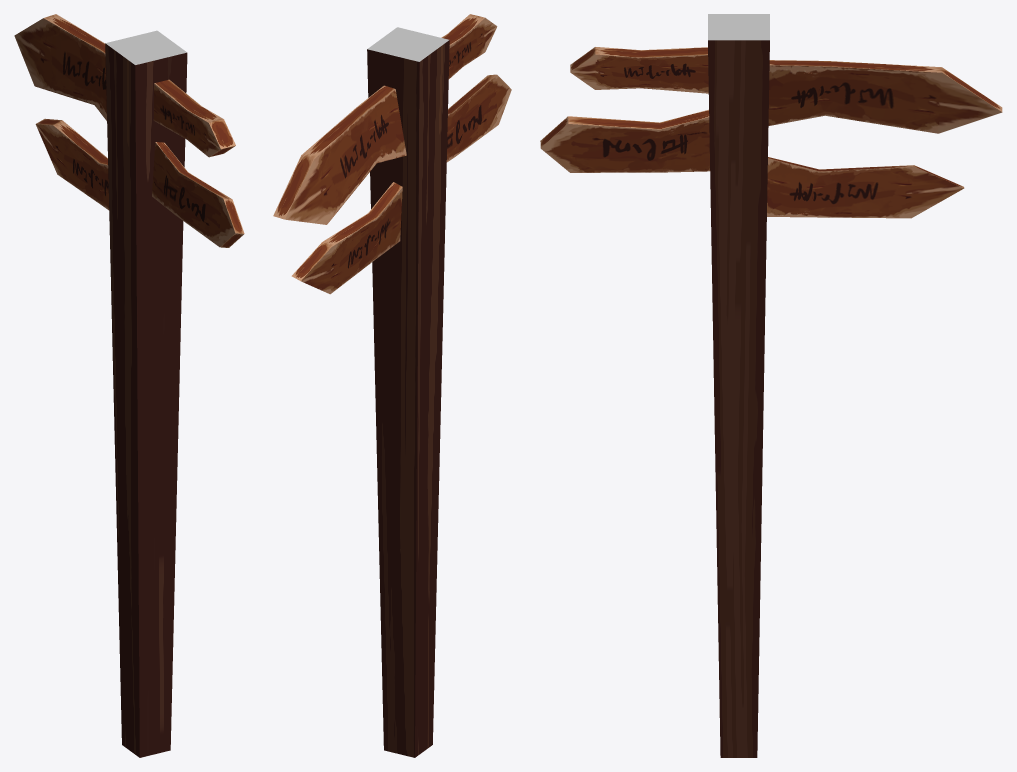
The model's file is SM_PROP_signpost_04.fbx.
3 renders of one model, left to right at view 1: azimuth 30°, elevation 25°; view 2: azimuth 150°, elevation 25°; view 3: azimuth 270°, elevation 25°, orthographic. The views are drawn at different scales.
Parts seen in each view (by area): view 1: SM_PROP_signpost_04; view 2: SM_PROP_signpost_04; view 3: SM_PROP_signpost_04.
Boxes of the visible parts, x1=… form: SM_PROP_signpost_04: x1=14, y1=14, x2=244, y2=757; SM_PROP_signpost_04: x1=273, y1=14, x2=511, y2=757; SM_PROP_signpost_04: x1=540, y1=14, x2=1002, y2=757.
Size of the model in its own units: 32.09 by 412 by 239.
